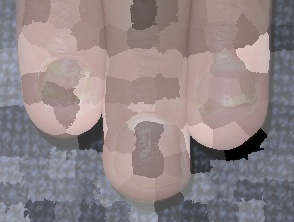Nail_psoriasis: (28, 52, 105, 116), (190, 80, 264, 117), (129, 127, 163, 166)
